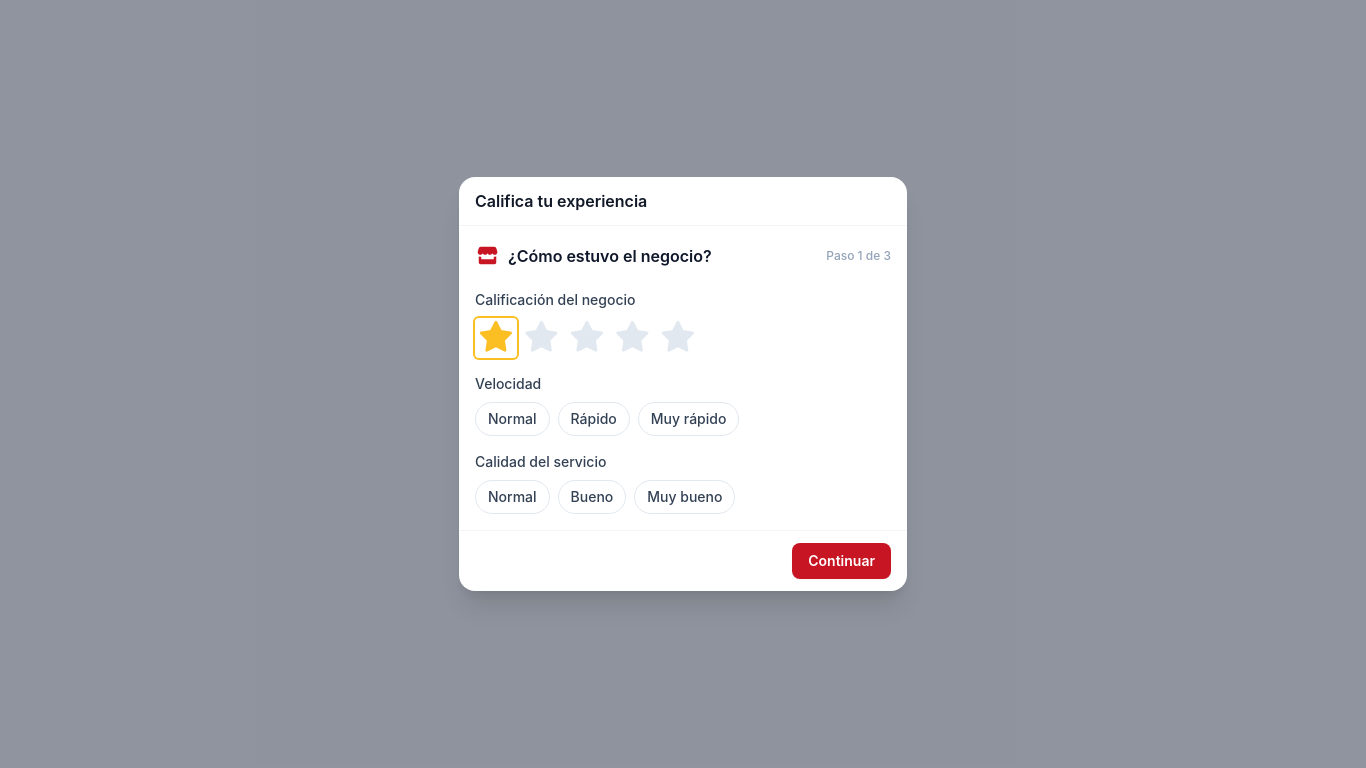
Scenario: PostOrderSurveyModal › exige las estrellas del negocio antes de continuar
This screenshot has width=1366, height=768.
Click the button with test id "survey-primary-action".
click(842, 561)  # box [792,543,891,579]
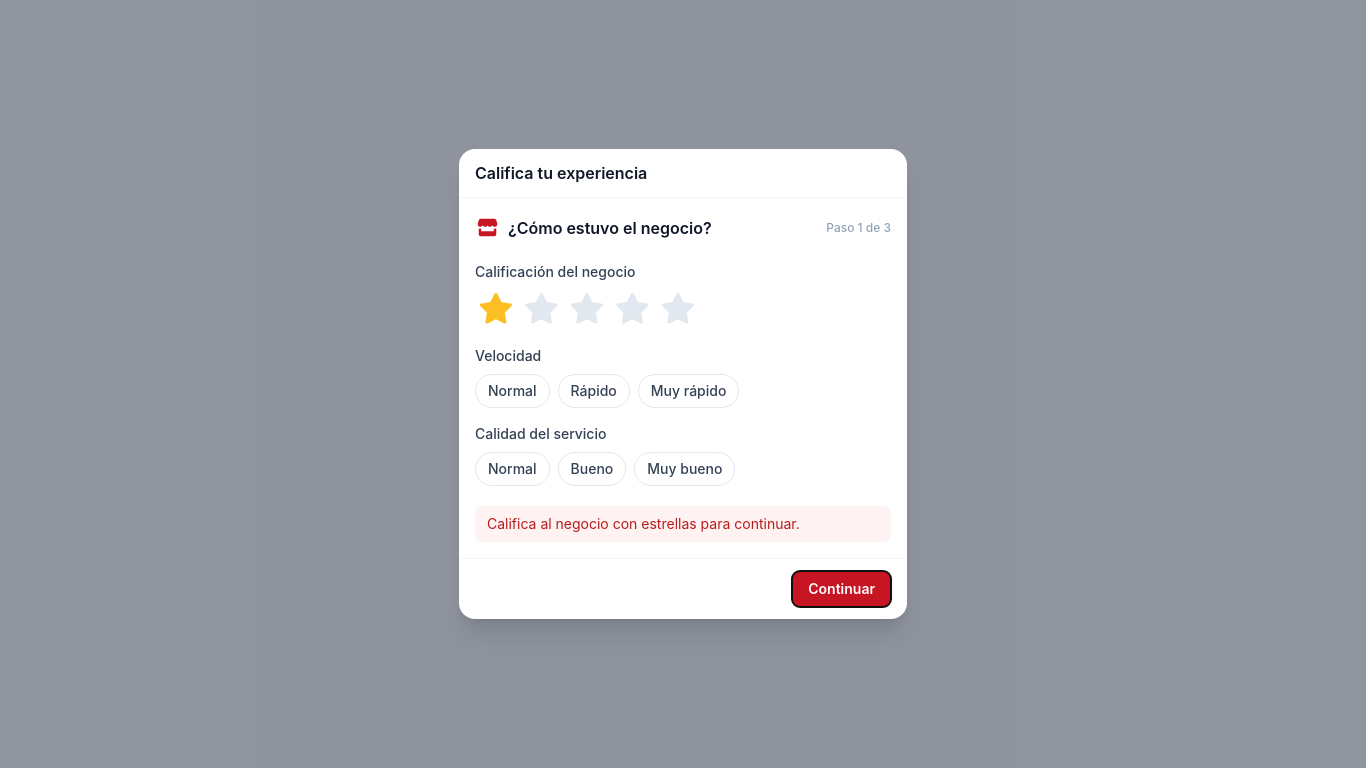
Now the message with test id "survey-error" shows "Califica al negocio con estrellas", box [487,515,800,532]
